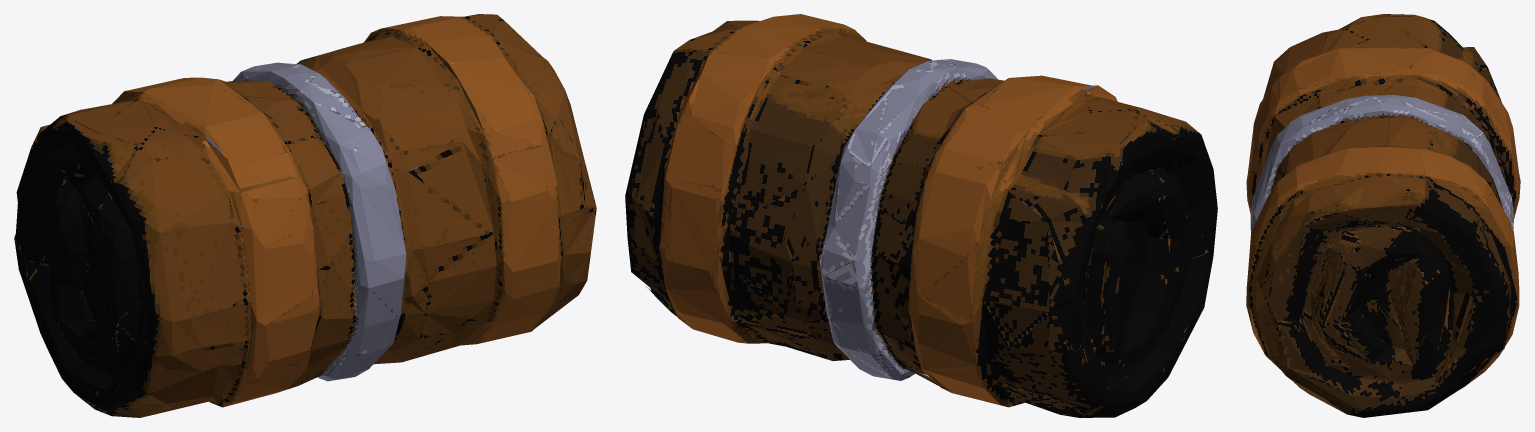
3 views of the same model, side by side, from view 1: azimuth 30°, elevation 25°; view 2: azimuth 150°, elevation 25°; view 3: azimuth 270°, elevation 25° (orthographic). The views are drawn at different scales.
Parts seen in each view (by area): view 1: OBJ121; view 2: OBJ121; view 3: OBJ121.
Boxes of the visible parts, left/top/right/bottom form: OBJ121: left=14, top=14, right=596, bottom=417; OBJ121: left=625, top=14, right=1217, bottom=417; OBJ121: left=1246, top=14, right=1520, bottom=417.
Size of the model in its own units: 0.3317 by 0.1929 by 0.2048.
Materials: 1 (1 with a texture image).
